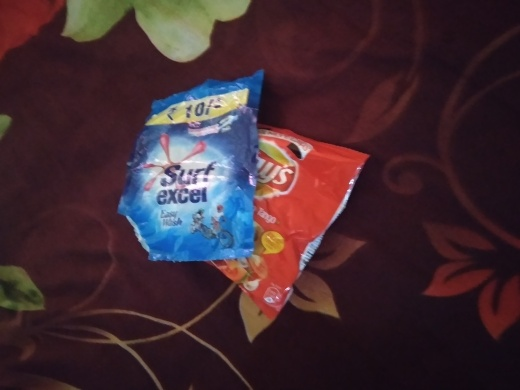lays: (199, 115, 372, 326)
surf: (116, 86, 267, 263)
